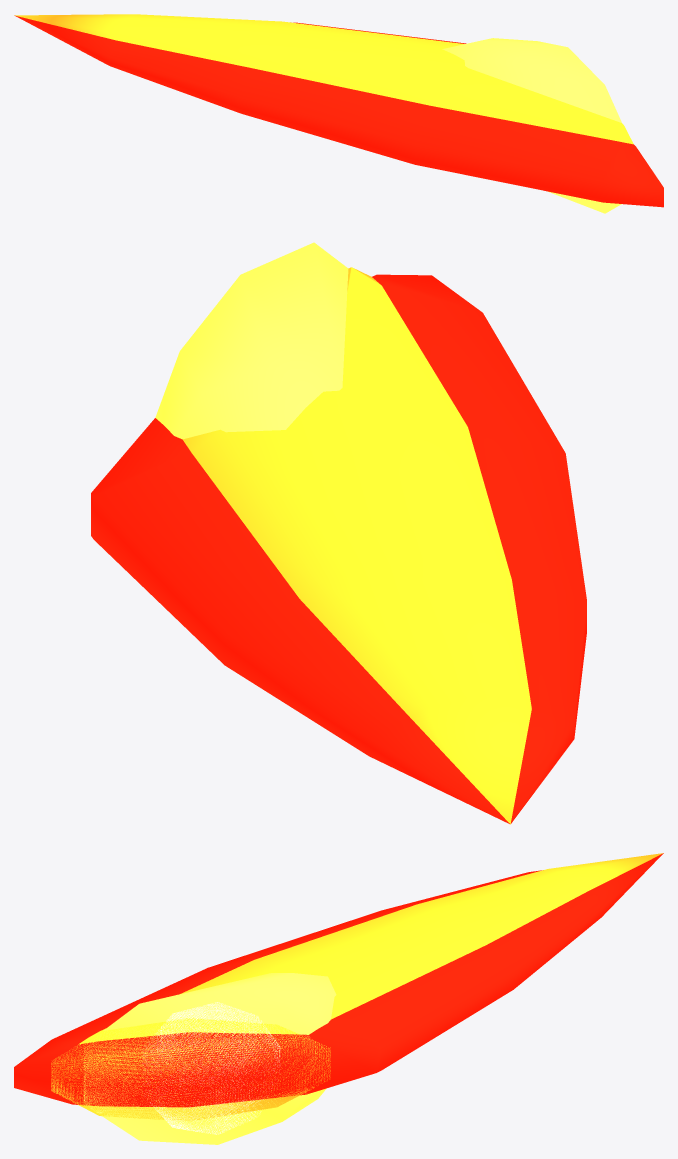
Rendered from newshj-17.glb.
3 views of the same model, one above another, from view 1: azimuth 30°, elevation 25°; view 2: azimuth 150°, elevation 25°; view 3: azimuth 270°, elevation 25° (orthographic). The views are drawn at different scales.
Visible parts, largest first — view 1: newshj-17-flame; view 2: newshj-17-flame; view 3: newshj-17-flame.
Part boxes in pixels (box(x1,y1,x2,y2)): newshj-17-flame: box(14, 14, 663, 213); newshj-17-flame: box(91, 242, 586, 824); newshj-17-flame: box(14, 853, 663, 1144).
Size of the model in its own units: 0.7833 by 0.3117 by 1.2.
